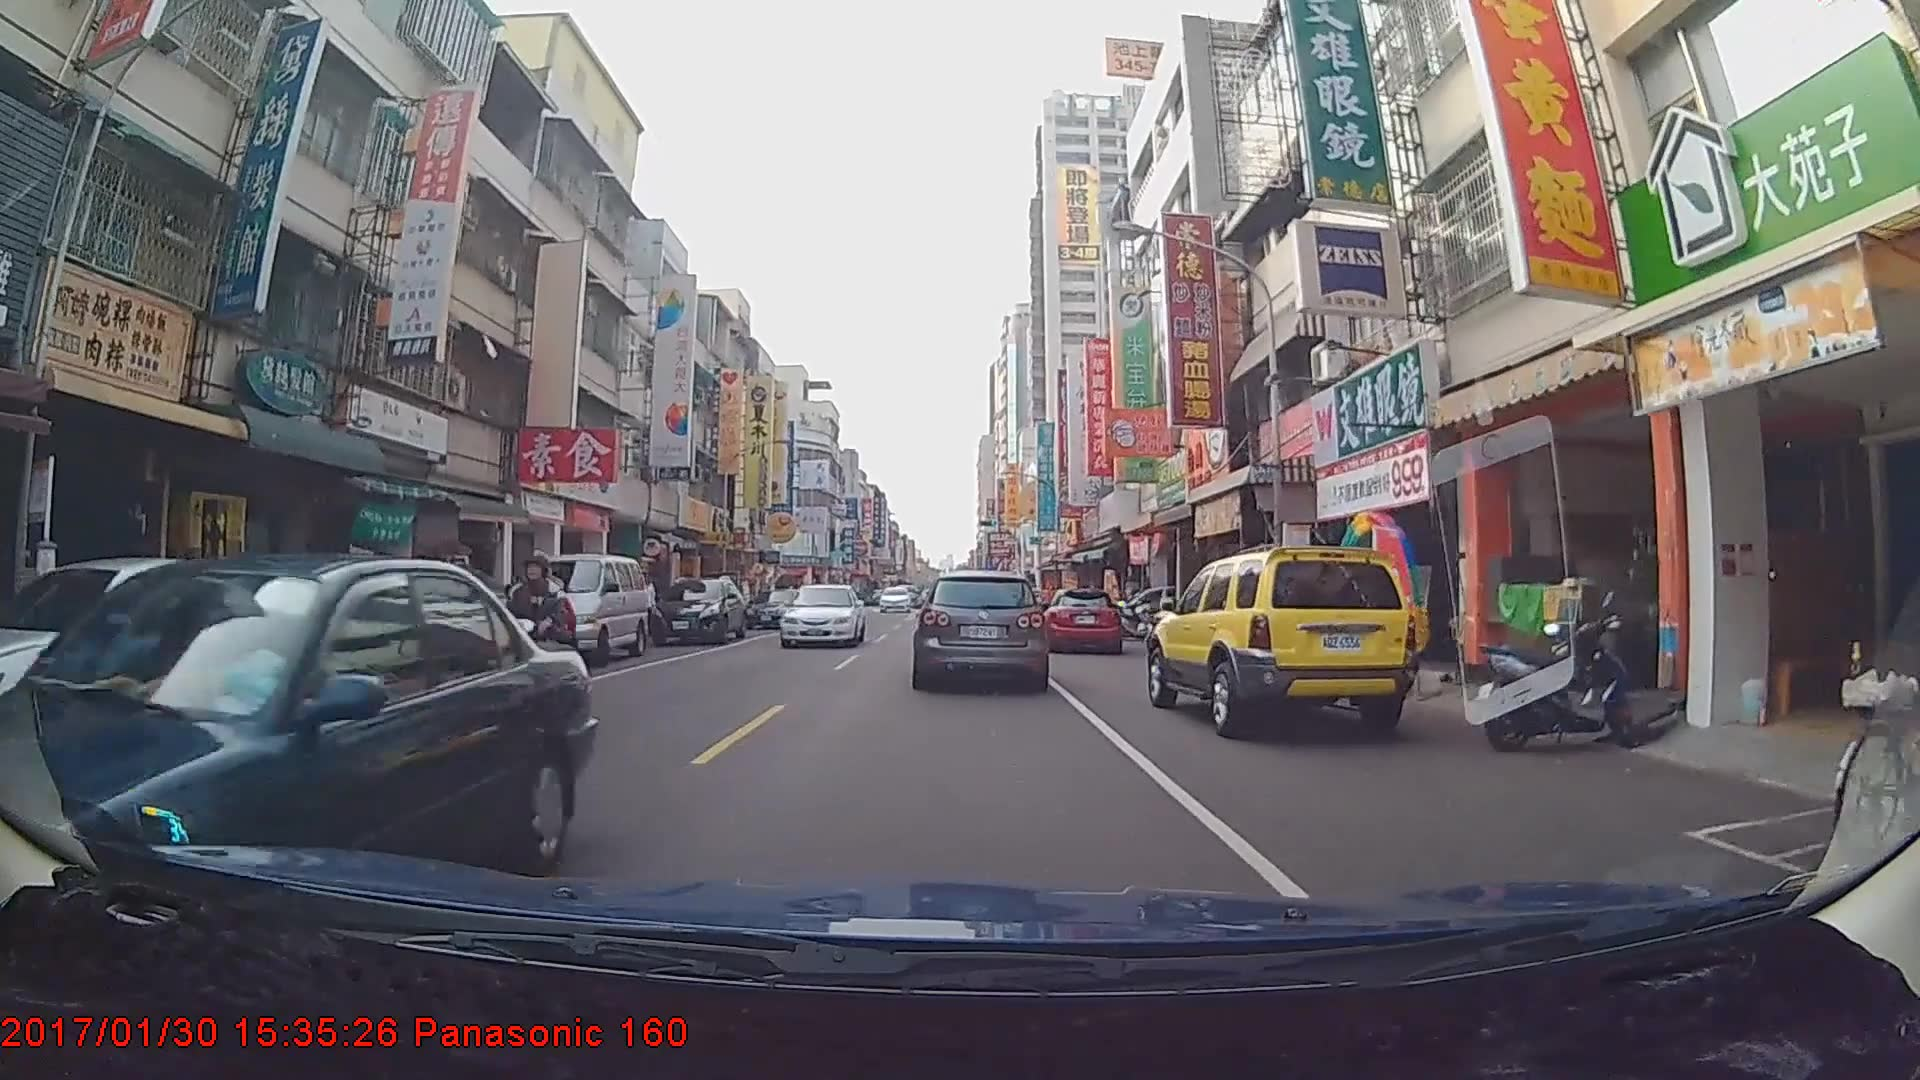vehicle: (0, 550, 596, 949), (1150, 538, 1418, 735), (911, 568, 1048, 691), (506, 553, 647, 666), (644, 575, 746, 644), (778, 582, 865, 647), (1039, 588, 1124, 654), (745, 588, 807, 630), (880, 585, 911, 615)
